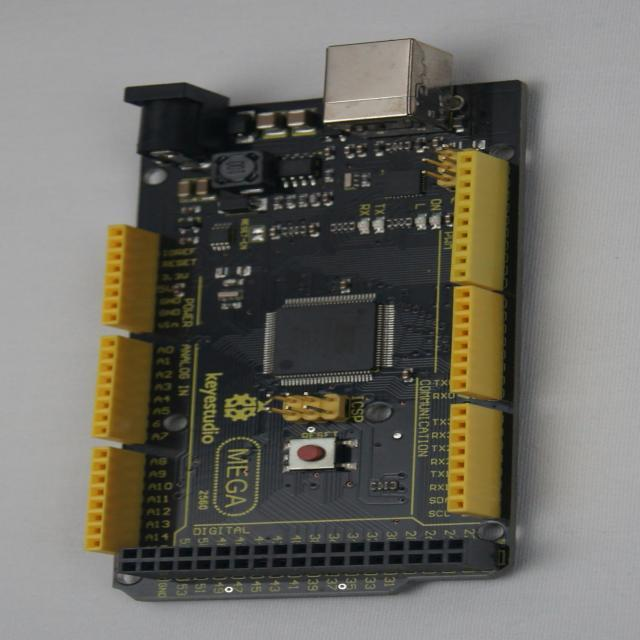Arduino Mega 2560 -Yellow-: (86, 39, 526, 599)
